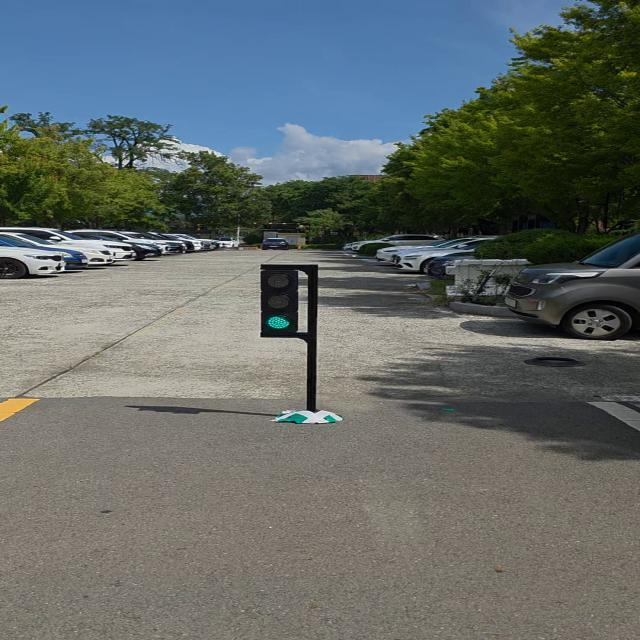green: (260, 262, 300, 338)
